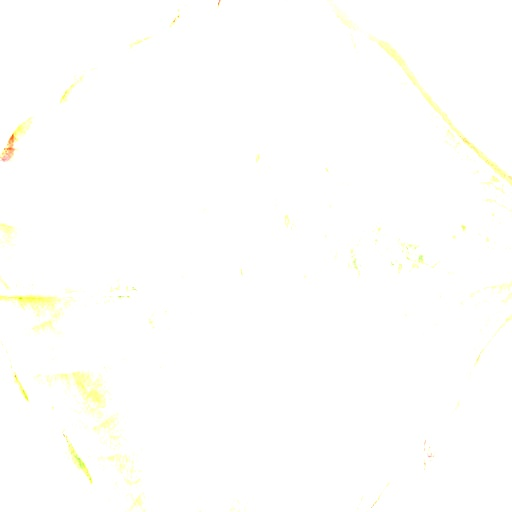Angular Leafspot: (106, 134, 486, 426)
